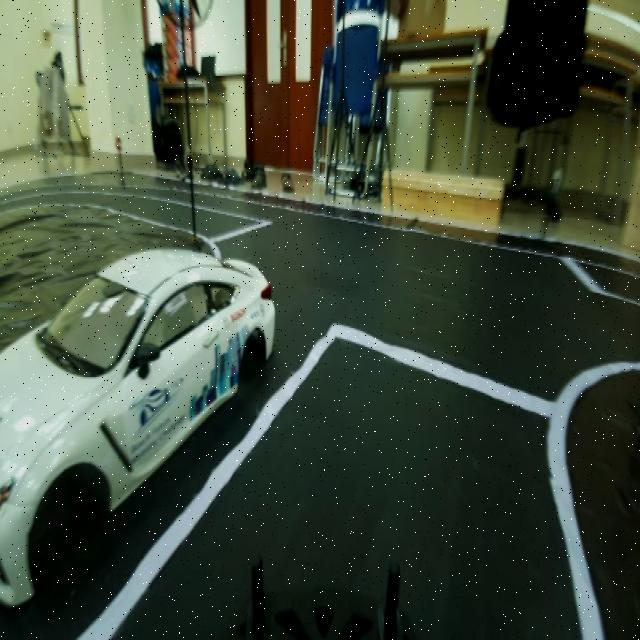car: (6, 230, 267, 595)
